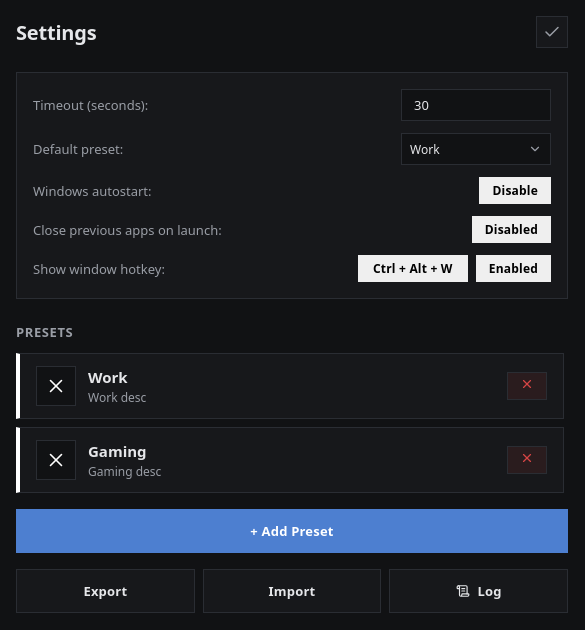
SettingsView › uninstalls autostart when disabling
Click the button "Disable".
click(515, 190)  # box [480, 177, 551, 204]
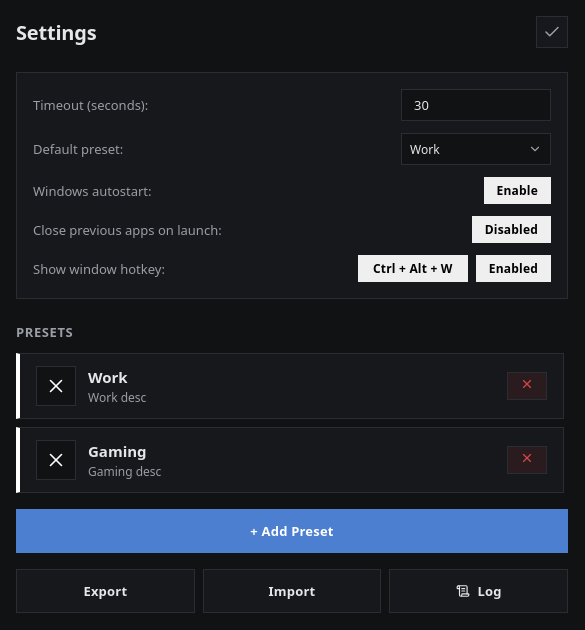
expect the button "Enable" is shown: met, box [484, 177, 551, 204]
